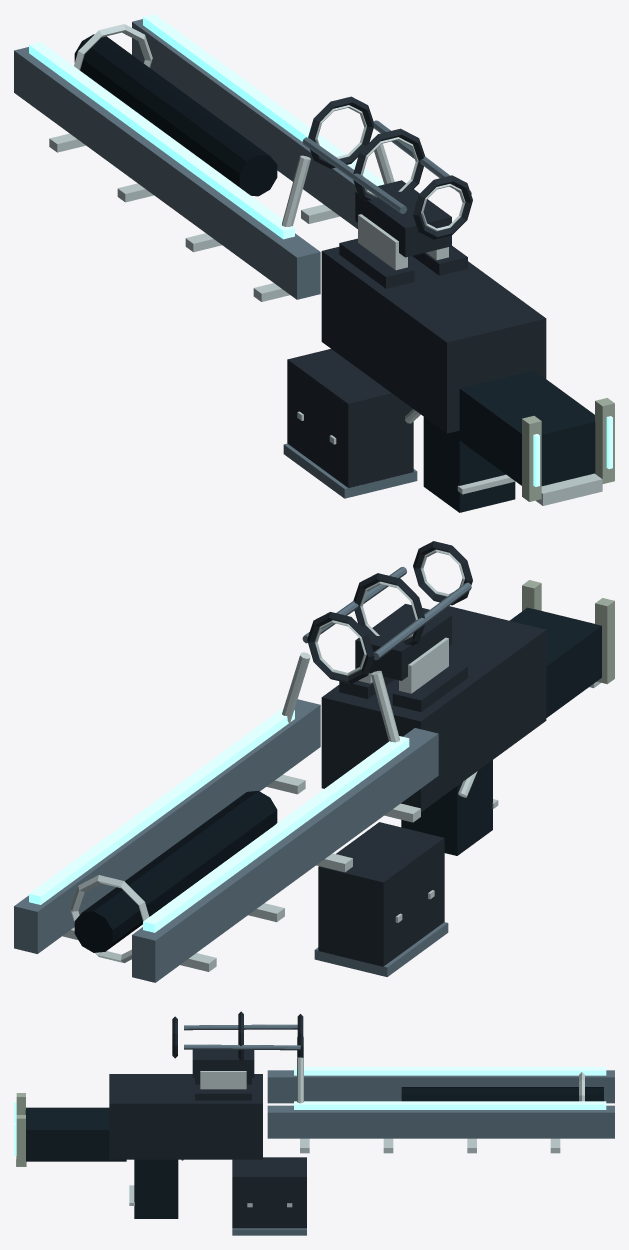
The model's file is world-2.glb.
The picture shows the model from 3 angles, top to bottom: view 1: azimuth 30°, elevation 25°; view 2: azimuth 150°, elevation 25°; view 3: azimuth 270°, elevation 25°; orthographic projection. The views are drawn at different scales.
Visible parts, largest first — view 1: body-dark, body-light, body-rubber, feed-dark, barrel-assembly-cavity, body-glow, body-trim, body-ceramic, feed-light; view 2: body-light, body-dark, feed-dark, body-glow, barrel-assembly-cavity, body-rubber, body-trim, body-ceramic, feed-light; view 3: body-light, body-dark, body-rubber, body-glow, feed-dark, barrel-assembly-cavity, body-trim, body-ceramic, feed-light.
Part boxes in pixels (x1,y1,x2,y2): body-dark: [308, 96, 546, 433]; body-light: [14, 19, 471, 299]; body-rubber: [423, 370, 595, 512]; feed-dark: [287, 349, 413, 487]; barrel-assembly-cavity: [74, 34, 277, 196]; body-glow: [29, 14, 612, 486]; body-trim: [49, 24, 602, 505]; body-ceramic: [522, 398, 614, 501]; feed-light: [283, 443, 417, 498]; body-light: [14, 566, 471, 982]; body-dark: [307, 541, 546, 811]; feed-dark: [318, 822, 444, 966]; body-glow: [29, 707, 409, 932]; barrel-assembly-cavity: [74, 790, 277, 952]; body-rubber: [401, 607, 601, 855]; body-trim: [62, 549, 600, 971]; body-ceramic: [522, 580, 614, 684]; feed-light: [314, 922, 448, 976]; body-light: [184, 1024, 614, 1138]; body-dark: [109, 1011, 303, 1159]; body-rubber: [25, 1107, 178, 1218]; body-glow: [14, 1067, 606, 1155]; feed-dark: [232, 1157, 306, 1228]; barrel-assembly-cavity: [401, 1087, 603, 1101]; body-trim: [16, 1036, 584, 1205]; body-ceramic: [16, 1093, 25, 1166]; feed-light: [232, 1228, 306, 1235].
Bounding box in the file's own units: 0.257 × 0.5381 × 1.37.
